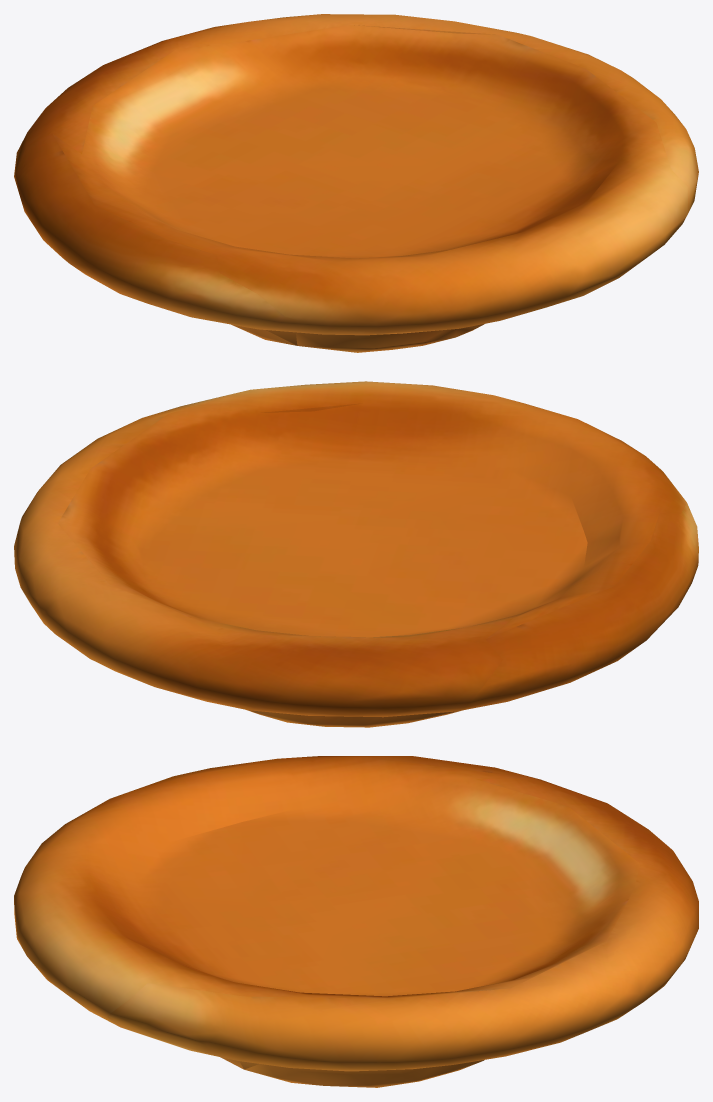
Rendered from frisbee.glb.
The picture shows the model from 3 angles, top to bottom: view 1: azimuth 30°, elevation 25°; view 2: azimuth 150°, elevation 25°; view 3: azimuth 270°, elevation 25°; orthographic projection.
Visible parts, largest first — view 1: model; view 2: model; view 3: model.
Boxes of the visible parts, x1=… form: model: x1=14, y1=14, x2=698, y2=352; model: x1=14, y1=381, x2=698, y2=727; model: x1=14, y1=756, x2=698, y2=1087.
Bounding box in the file's own units: 1.84 × 0.4416 × 1.89.
Materials: 1 (1 with a texture image).
